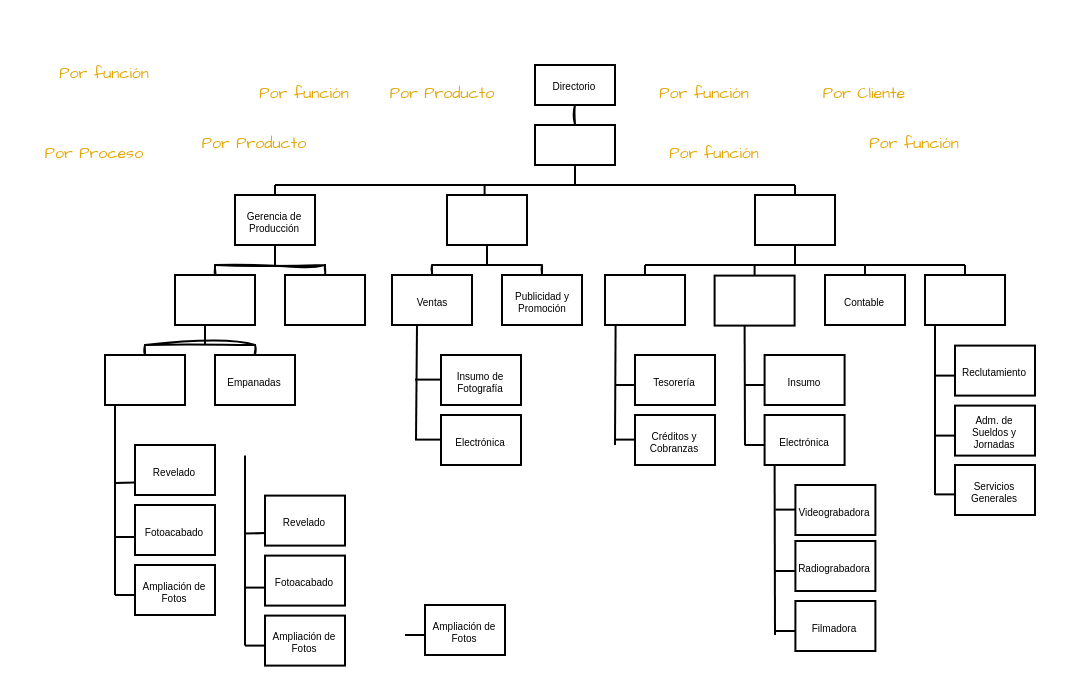
Image size: 1070x700. Some labels were removed from this diagram. Each missing label, with the centre of its shape:
"Compras" belongs at point 754,300.
"Control de Caalidad" belongs at point 324,299.
"Fabricación" belongs at point 214,299.
"Finanzas" belongs at point 644,299.
"Gerencia de Administración" belongs at point 794,219.
"Gerencia de Comercialización" belongs at point 486,219.
"Gerencia General" belongs at point 574,144.
"Pizzas" belongs at point 144,379.
"R.R.H.H." belongs at point 964,299.
